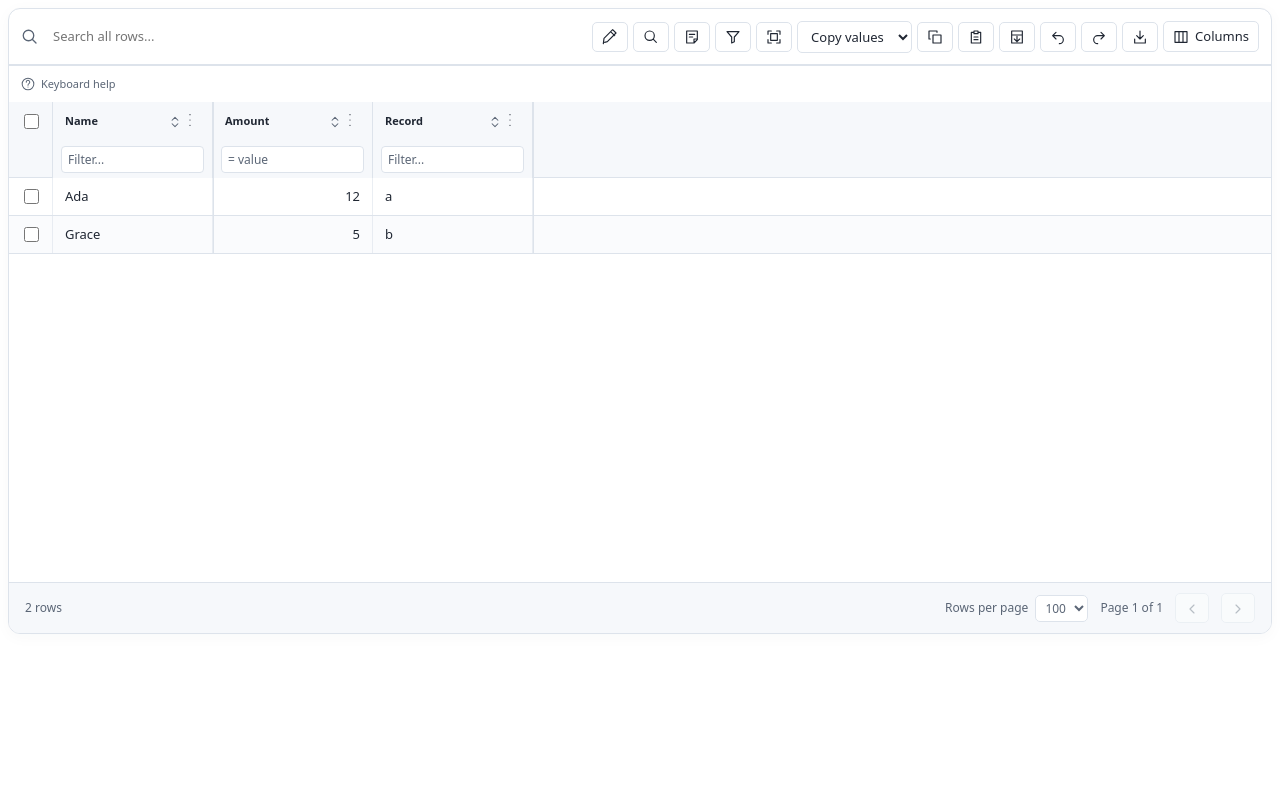
it: DataGrid contextual commands › does not paste a late clipboard result after an authoritative source update
Right-click the cell "Ada" at (133, 196), box [53,178,213,215]
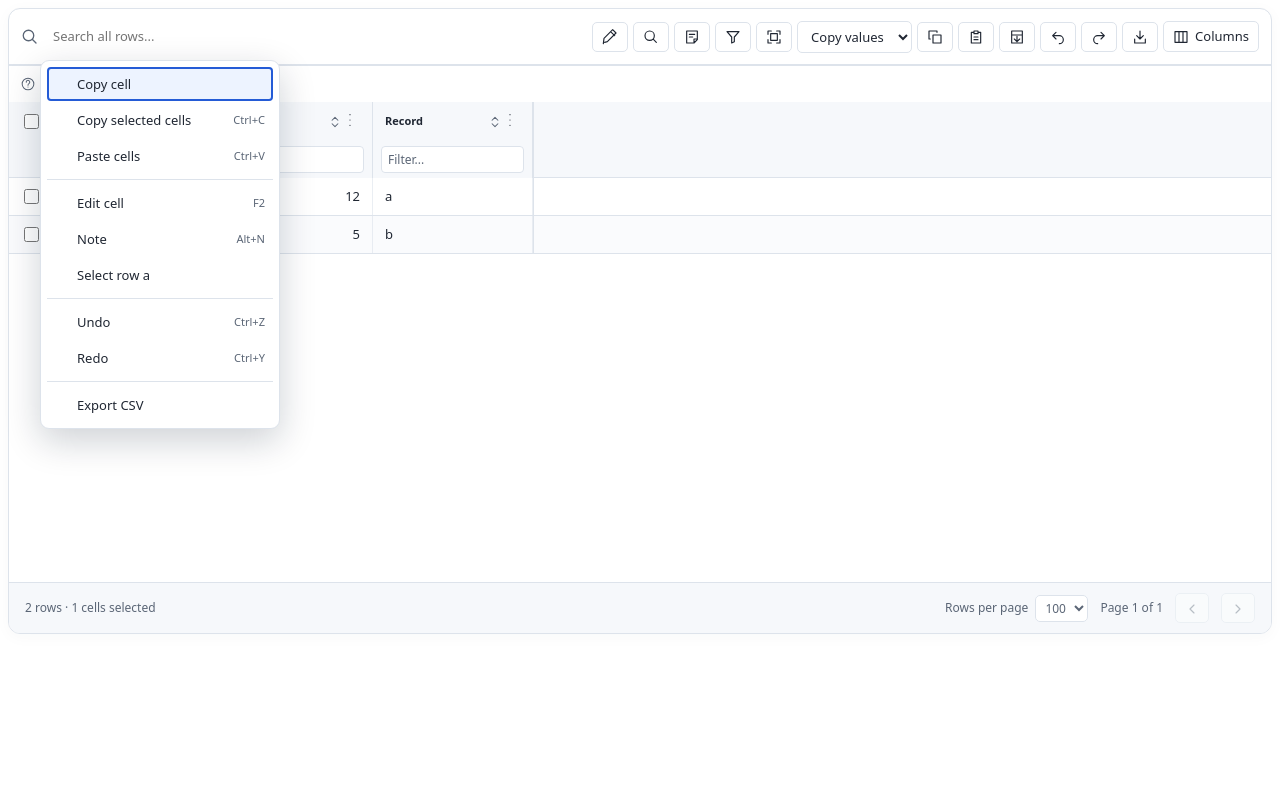
Click the menu item "Paste cells Ctrl+V" at (160, 156), box [47,139,273,173]
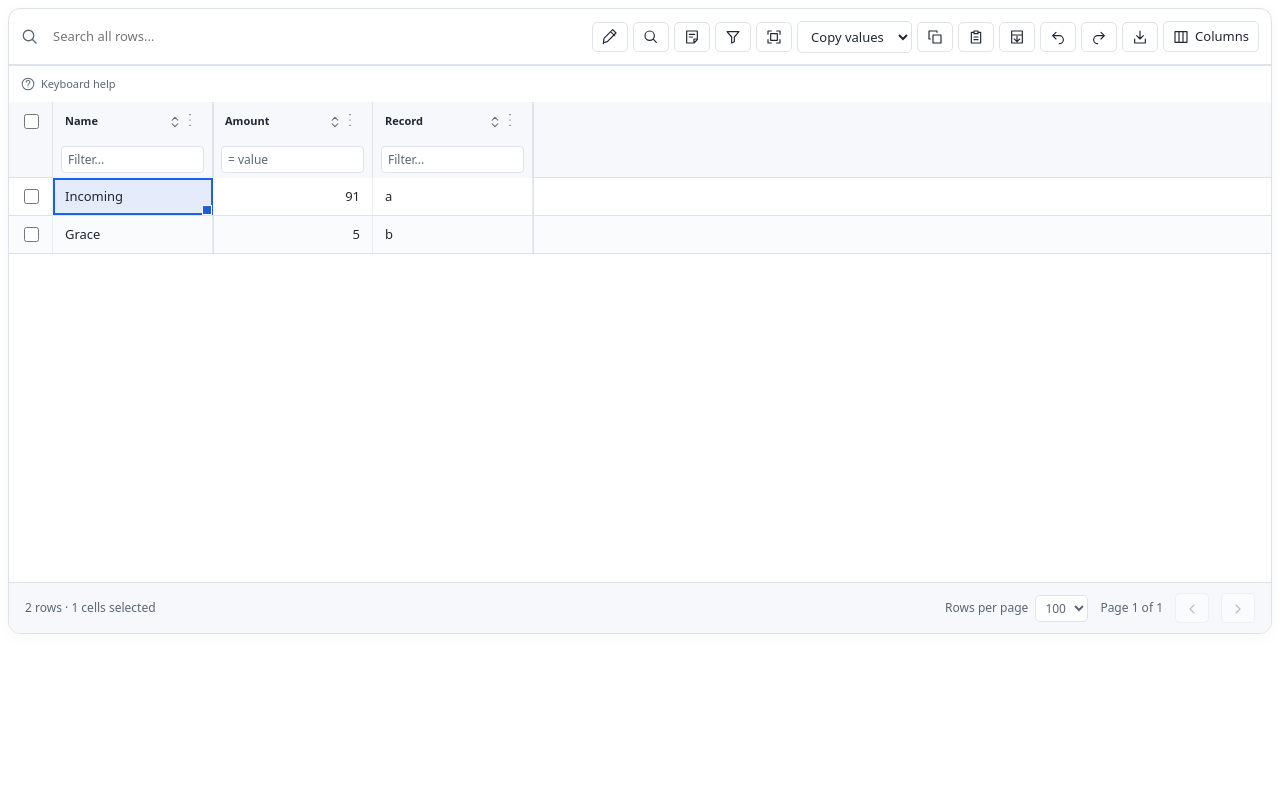
expect the menu is gone: met
